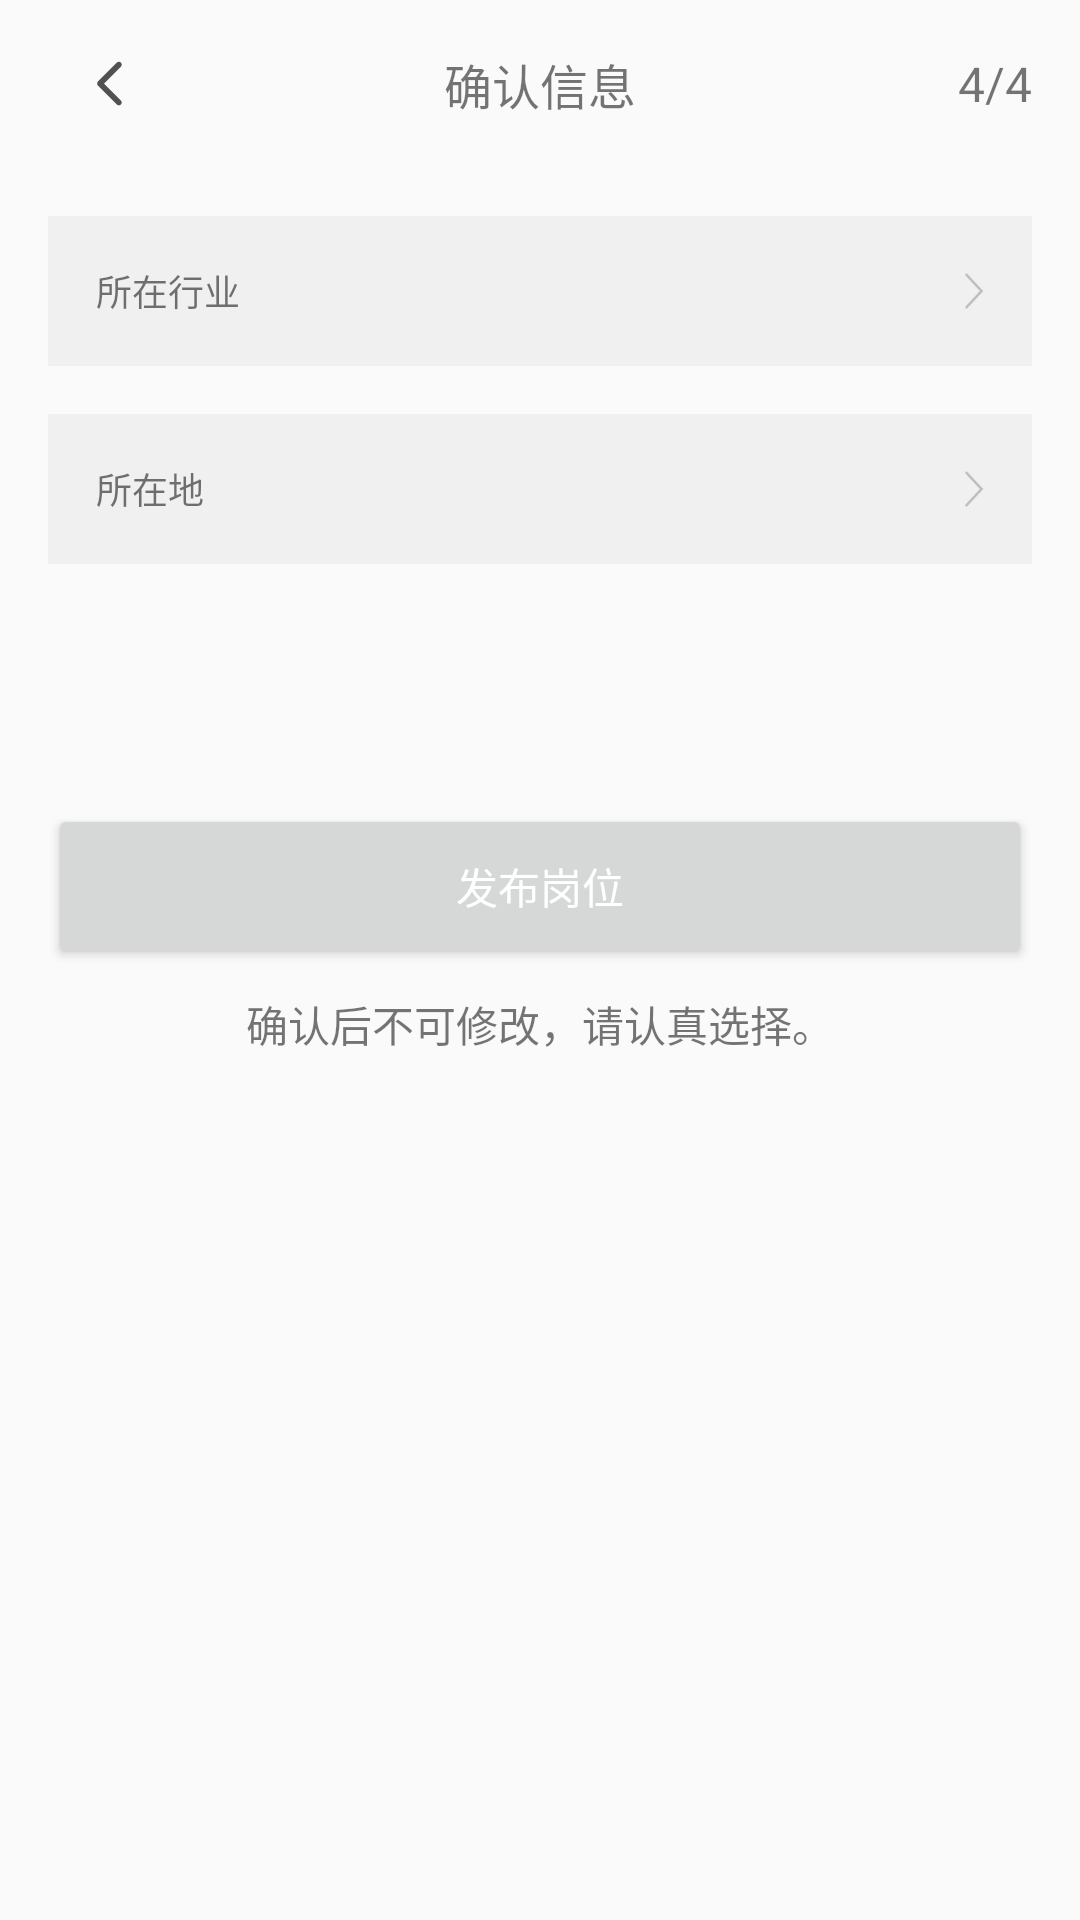

Icon bounding boxes for this 1080×1920 phone screenshot, format (x1, y1, x2, y2):
back: (97, 61, 122, 106)
enter: (965, 273, 983, 309), (965, 471, 983, 507)
